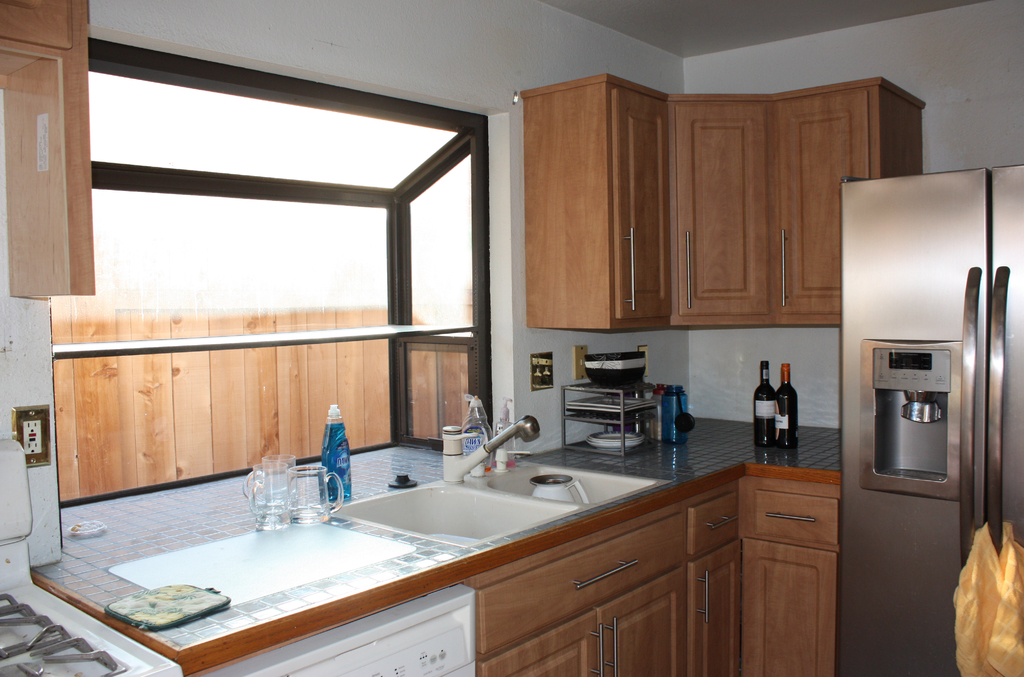cabinet door: (667, 103, 766, 323), (774, 102, 870, 321), (744, 544, 834, 677), (614, 92, 666, 321), (466, 543, 686, 597), (593, 594, 687, 677), (687, 559, 743, 677), (482, 622, 602, 677), (754, 491, 838, 543), (694, 499, 737, 543)
handle: (953, 264, 987, 580), (979, 264, 1006, 580), (561, 559, 646, 596), (763, 506, 827, 531), (623, 227, 641, 314), (603, 611, 626, 677), (694, 563, 716, 628), (778, 227, 793, 311), (682, 229, 697, 309), (587, 623, 607, 677), (706, 503, 729, 535)
refrigerator door: (840, 183, 985, 677), (990, 180, 1024, 677)
